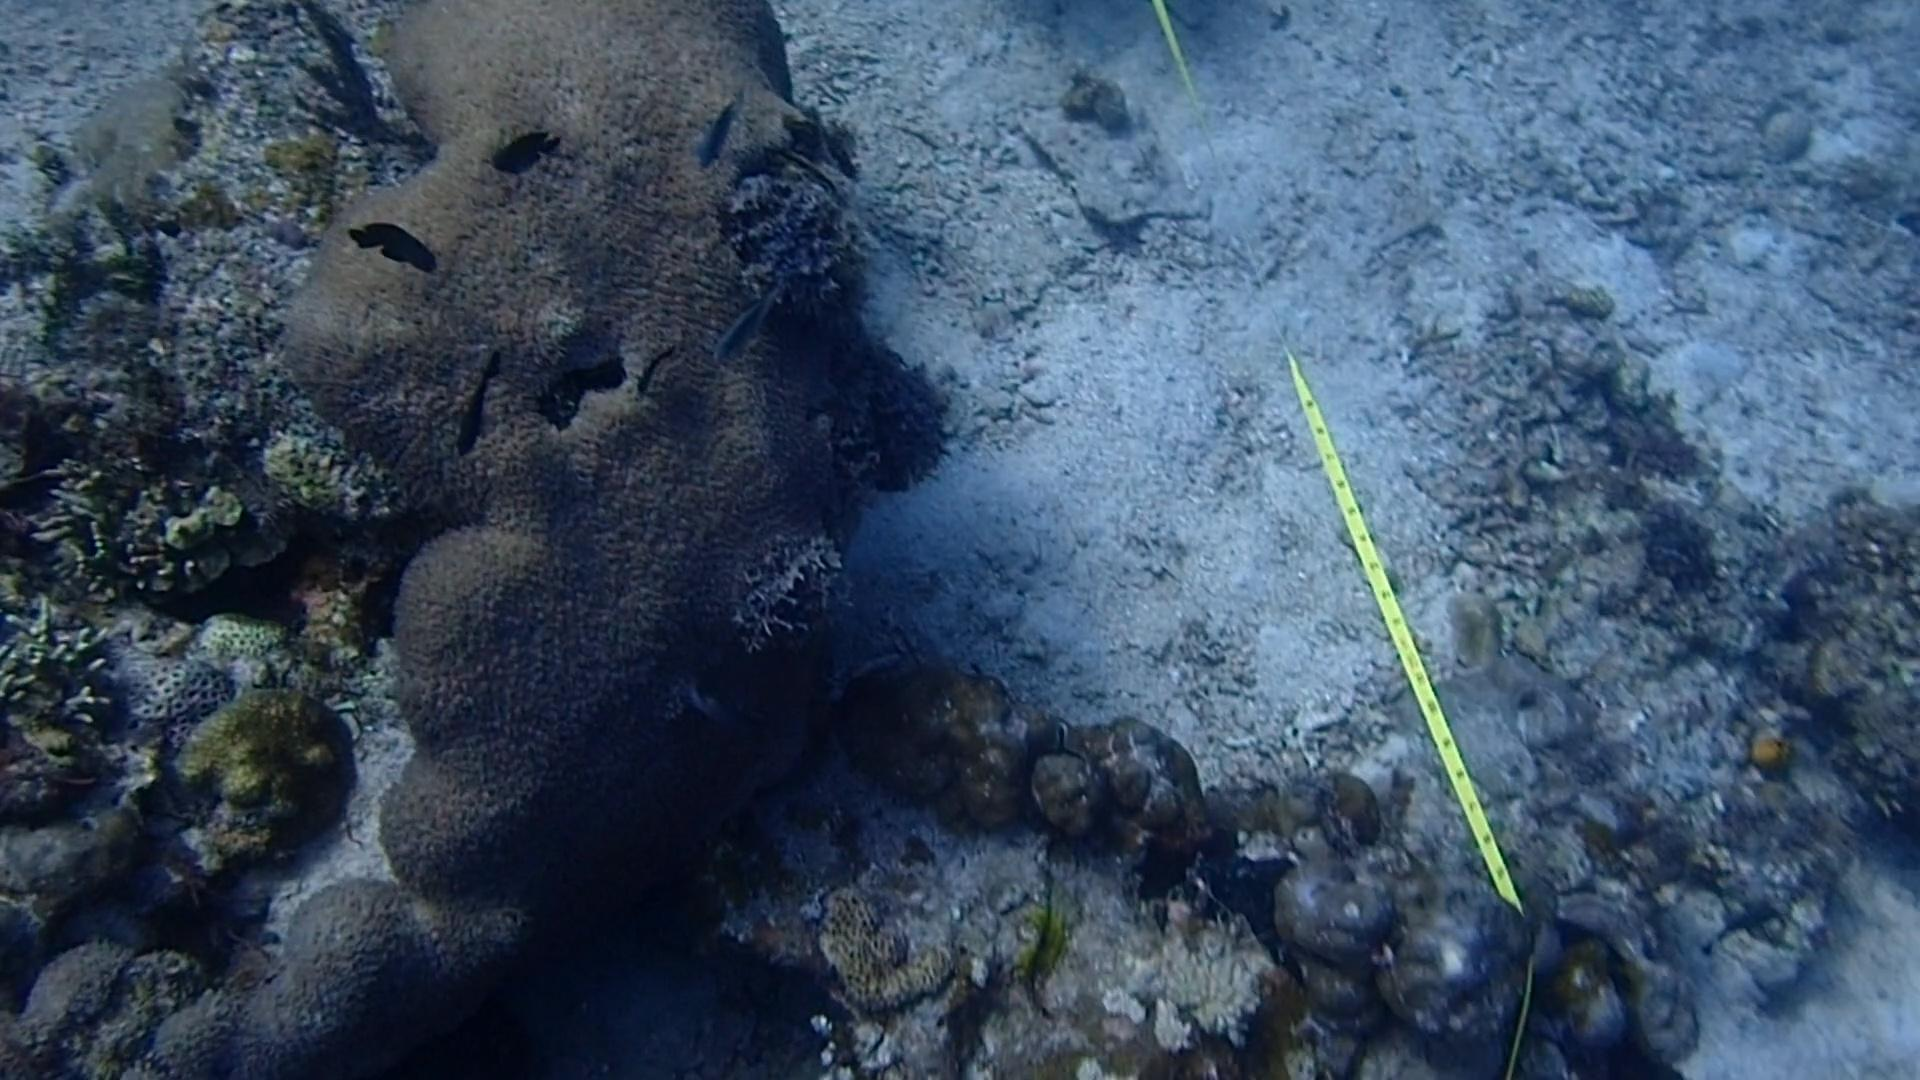Dark Fish: (427, 353, 514, 458), (344, 208, 450, 285), (480, 125, 564, 189), (1697, 894, 1778, 957), (630, 338, 678, 390)
Light Fish: (670, 674, 764, 758), (708, 281, 783, 373), (678, 83, 756, 170)
